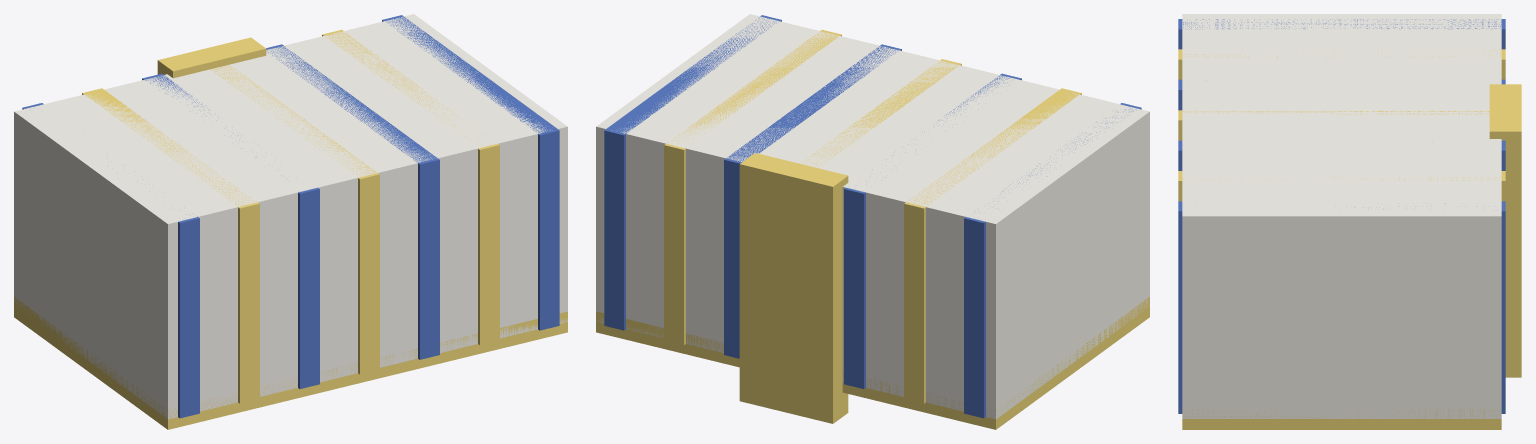
Rendered from egipcio_saia.glb.
3 renders of one model, left to right at view 1: azimuth 30°, elevation 25°; view 2: azimuth 150°, elevation 25°; view 3: azimuth 270°, elevation 25°, orthographic. The views are drawn at different scales.
Parts seen in each view (by area): view 1: egipcio_saia; view 2: egipcio_saia; view 3: egipcio_saia.
Boxes of the visible parts, x1,y1,x2,y2 form: egipcio_saia: [14, 14, 567, 429]; egipcio_saia: [596, 14, 1149, 429]; egipcio_saia: [1178, 14, 1521, 429].
Size of the model in its own units: 0.6 by 0.34 by 0.43.
